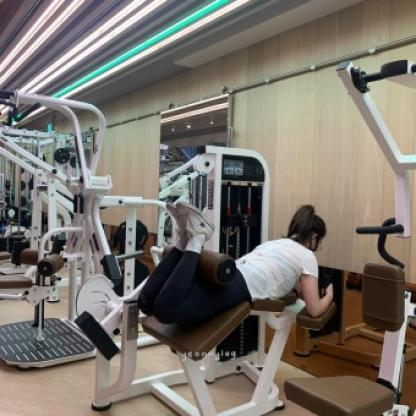reg curl machine: (68, 143, 340, 416)
